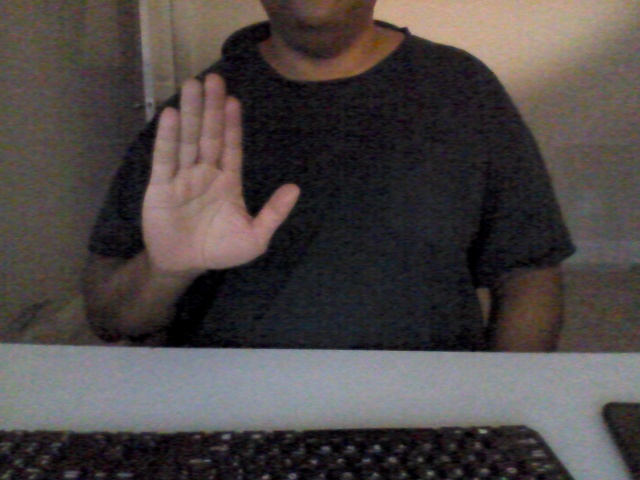hello: (143, 69, 301, 275)
